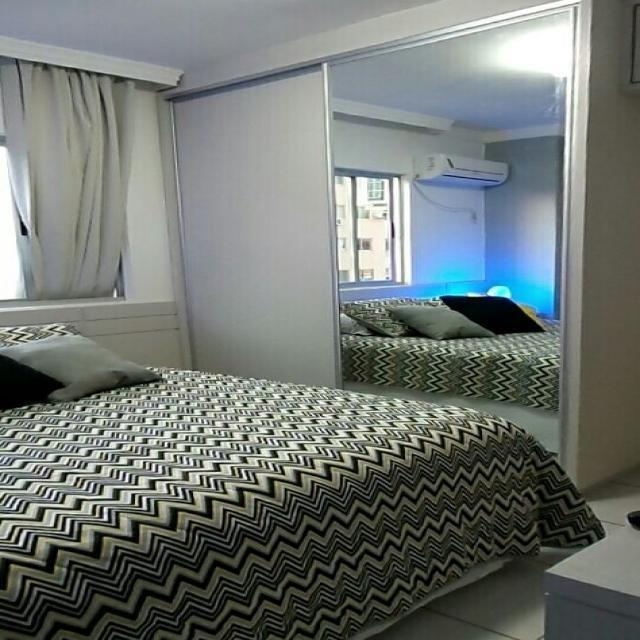AC: (412, 152, 509, 188)
